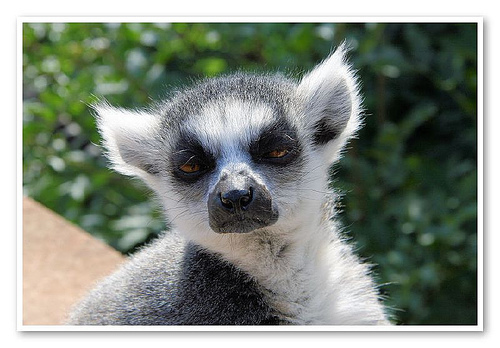cat: (59, 33, 402, 332)
